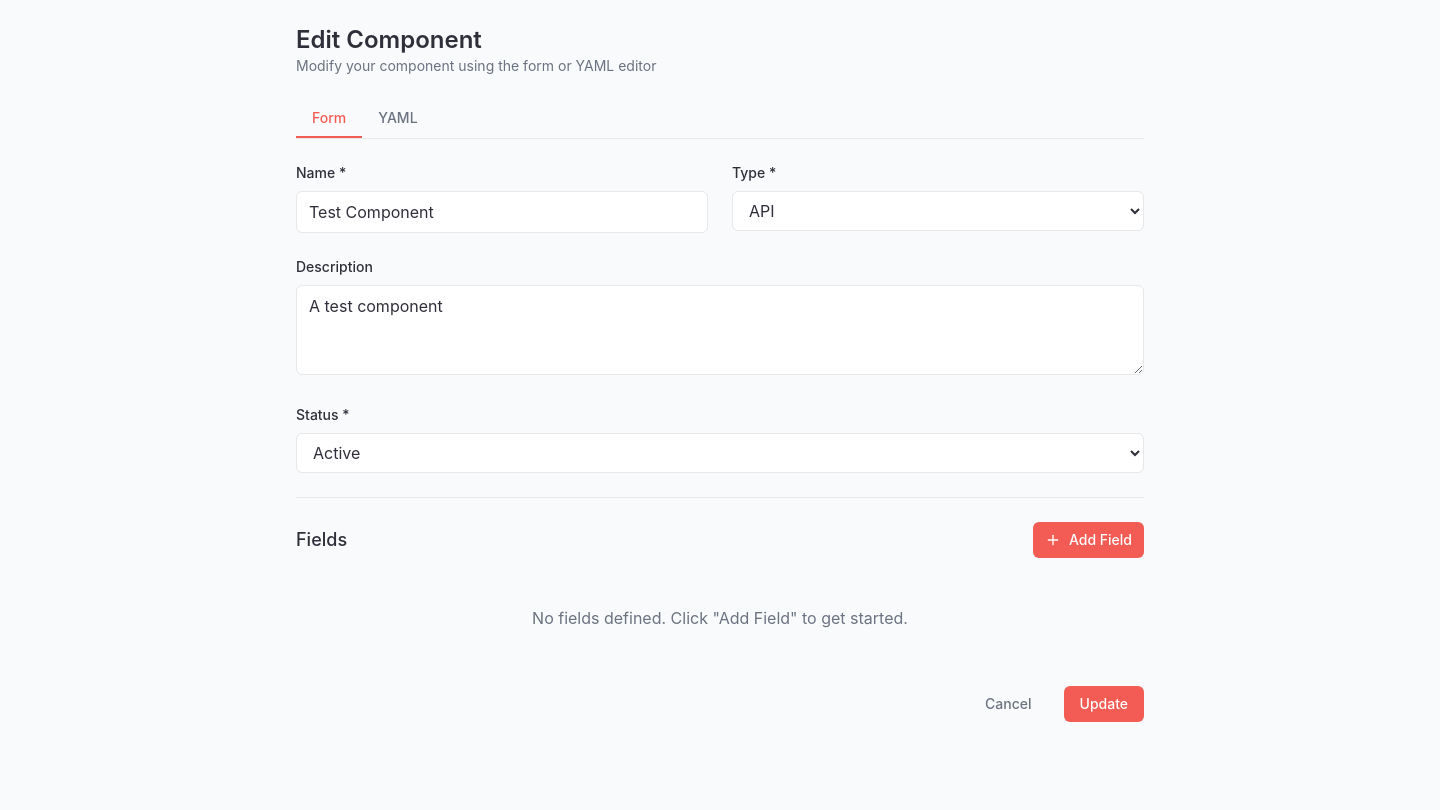
Scenario: ComponentDesigner - Optimistic Concurrency › shows conflict modal on 409 error
// Fill out the form
Replace the text in the field labelled "Name *" with "Updated Component". click: (502, 212)
box: [296, 191, 708, 233]
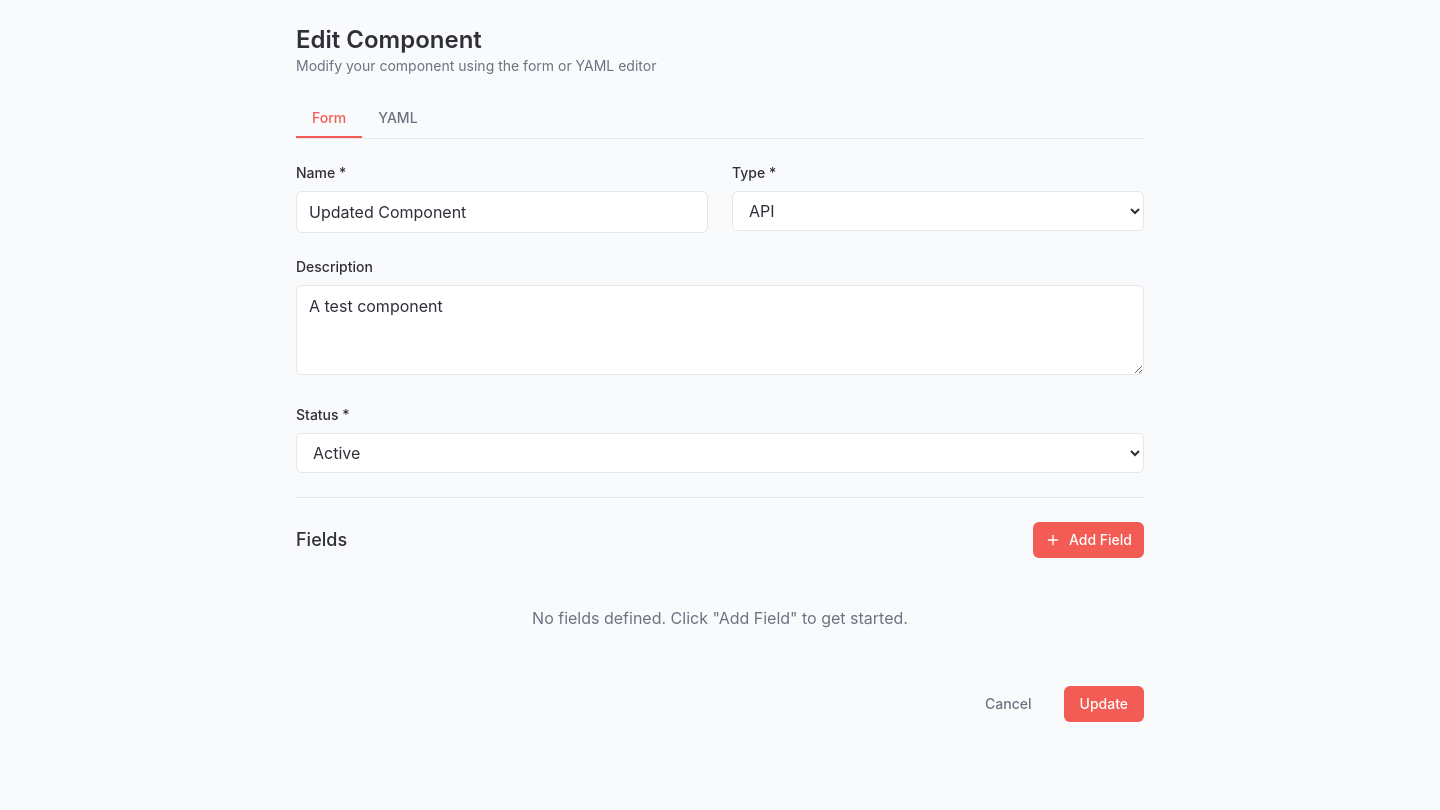
// Submit the form
Click the button "Update". click: click(1104, 704)
box: [1064, 686, 1144, 722]
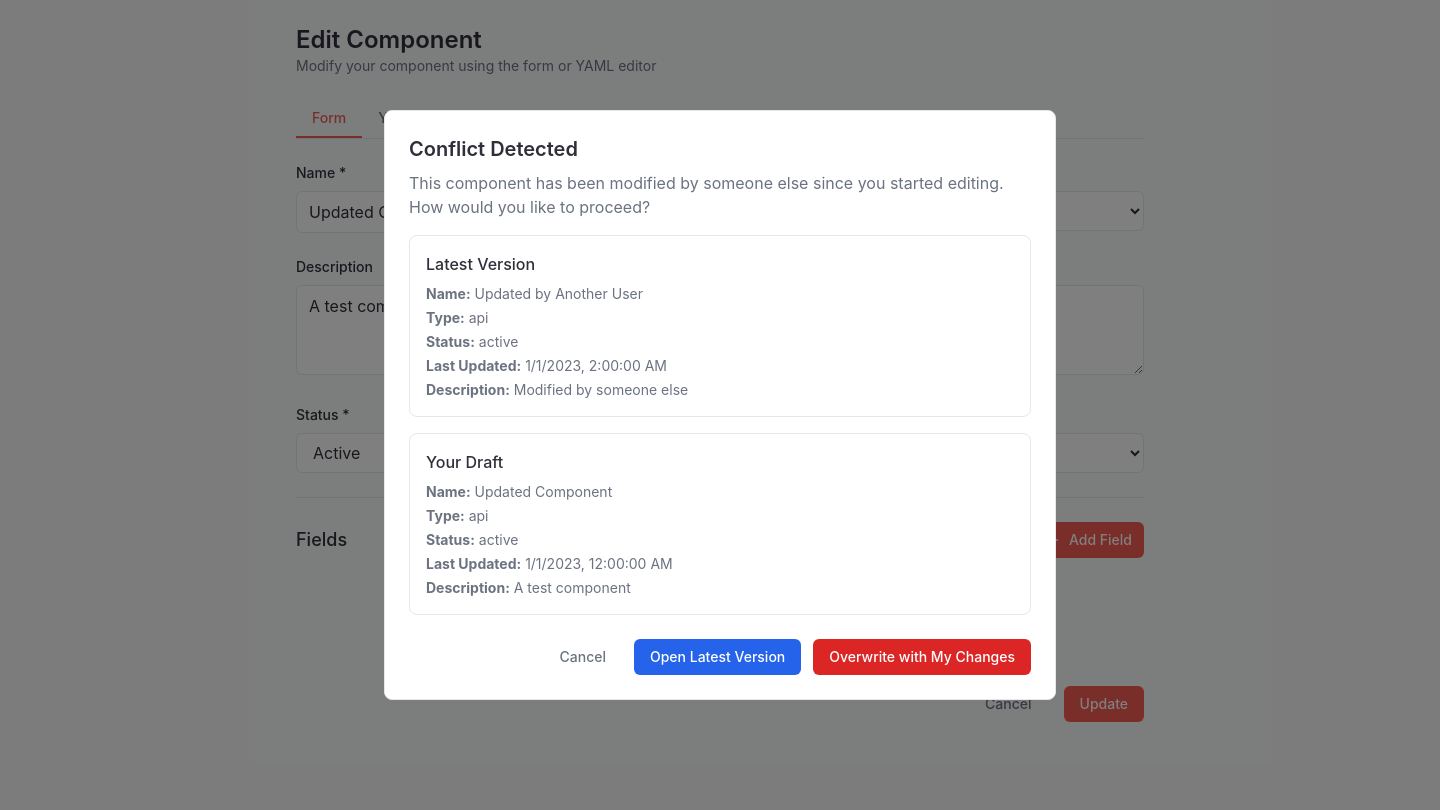
Expected: the heading "Conflict Detected" is shown, [409, 137, 578, 161]
Expected: the heading "Latest Version" is shown, [426, 254, 535, 274]
Expected: the heading "Your Draft" is shown, [426, 452, 503, 472]
